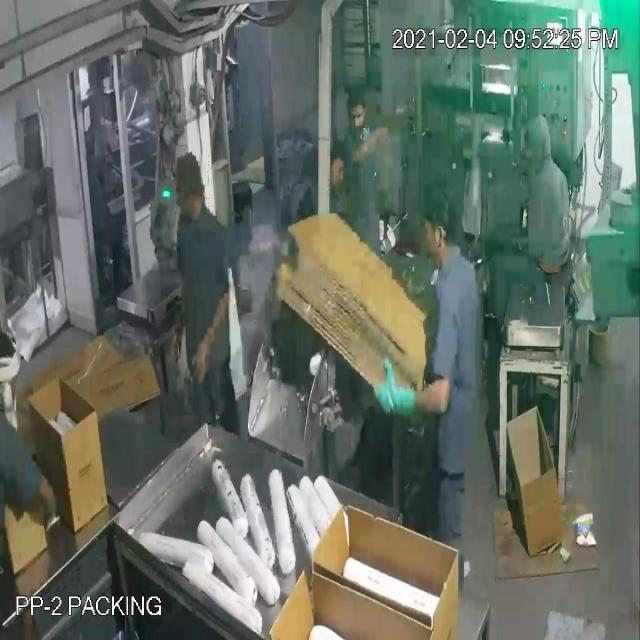No_Gloves: (37, 49, 394, 486)
